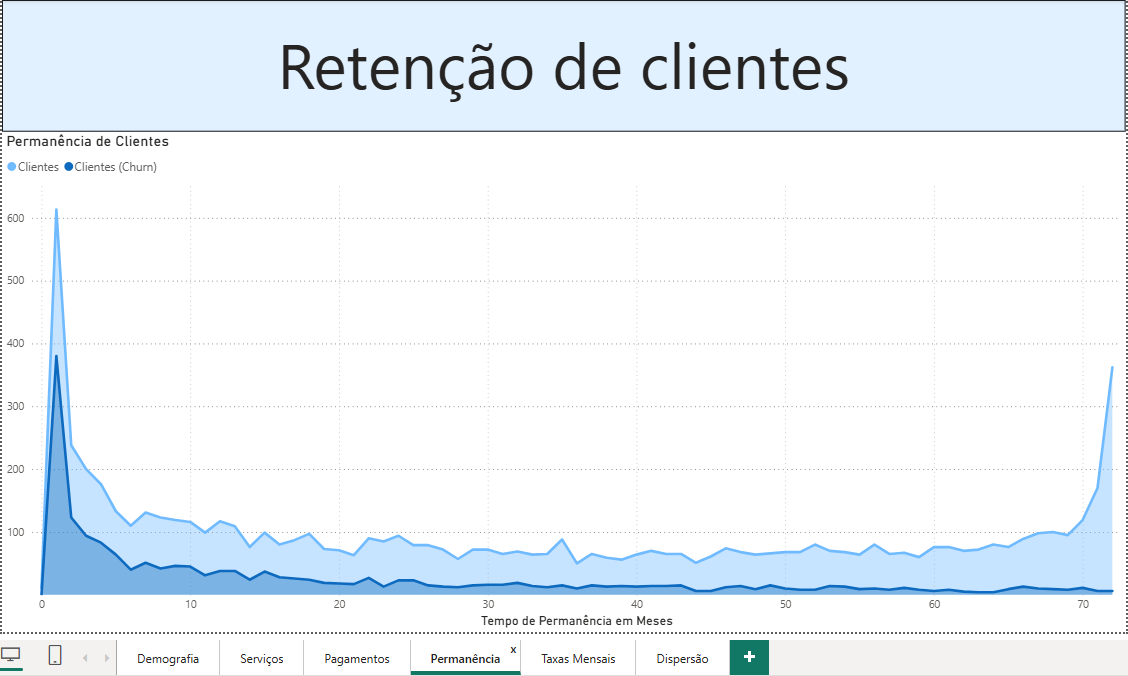

The page's visual inventory and layout, read from the dashboard file:
{"tool":"powerbi","page":{"name":"Permanência","canvas":[1280,720],"ordinal":3},"visuals":[{"type":"areaChart","title":"Permanência de Clientes","fields":{"Category":["WA_Fn-UseC_-Telco-Customer-Churn.tenure"],"Y":["CountNonNull(WA_Fn-UseC_-Telco-Customer-Churn.tenure)","Sum(WA_Fn-UseC_-Telco-Customer-Churn.Churn)"]},"box":[0,150.4,1280,569.9],"z":0},{"type":"textbox","box":[0,0,1280,150.4],"z":1000}]}

Visuals, with their boxes on the page's 1280x720 design canvas (x1, y1, x2, y2). These are canvas units, not pixel positions in the 1128x676 screenshot, which may show the page scaled, cropped or inside an application window:
"Permanência de Clientes" areaChart: detection(0, 150, 1280, 720)
textbox: detection(0, 0, 1280, 150)
